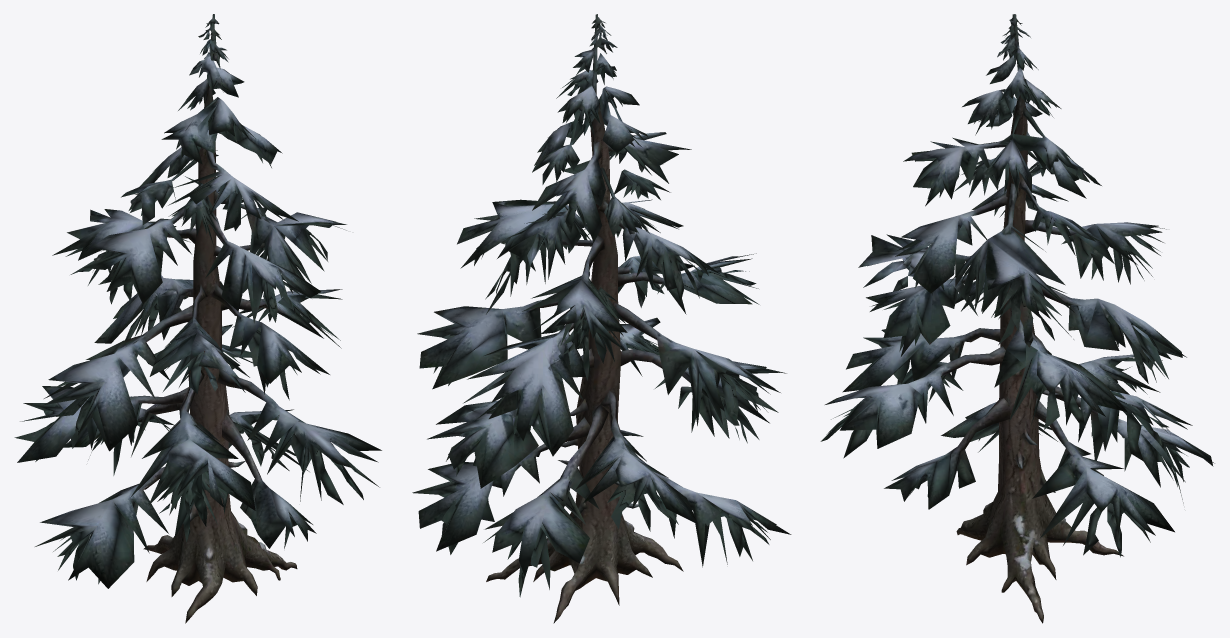
3 views of the same model, side by side, from view 1: azimuth 30°, elevation 25°; view 2: azimuth 150°, elevation 25°; view 3: azimuth 270°, elevation 25° (orthographic). The views are drawn at different scales.
Visible parts, largest first — view 1: tripo_node_d868cd00-3b5a-4e3f-8b88-4b9cf6c91b7c; view 2: tripo_node_d868cd00-3b5a-4e3f-8b88-4b9cf6c91b7c; view 3: tripo_node_d868cd00-3b5a-4e3f-8b88-4b9cf6c91b7c.
Part boxes in pixels (left/top/right/bottom): tripo_node_d868cd00-3b5a-4e3f-8b88-4b9cf6c91b7c: left=14, top=14, right=381, bottom=623; tripo_node_d868cd00-3b5a-4e3f-8b88-4b9cf6c91b7c: left=412, top=14, right=791, bottom=623; tripo_node_d868cd00-3b5a-4e3f-8b88-4b9cf6c91b7c: left=820, top=14, right=1214, bottom=623.
Size of the model in its own units: 0.5957 by 0.998 by 0.6348.
1 material, 1 textured.
